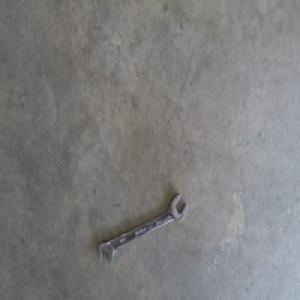Wrench: (98, 193, 186, 264)
